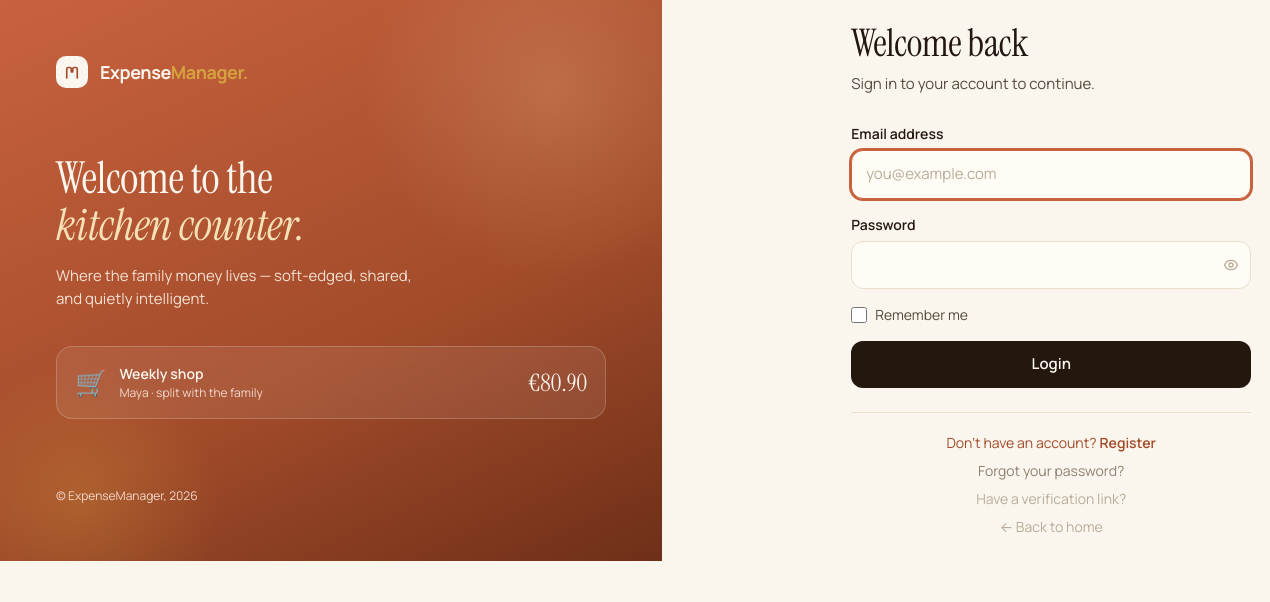
Test: Login page › shows error when email format is invalid
The image size is (1270, 602).
In the field labelled "Email address": (1051, 175) top-left (851, 150), bottom-right (1251, 199), type "notanemail"
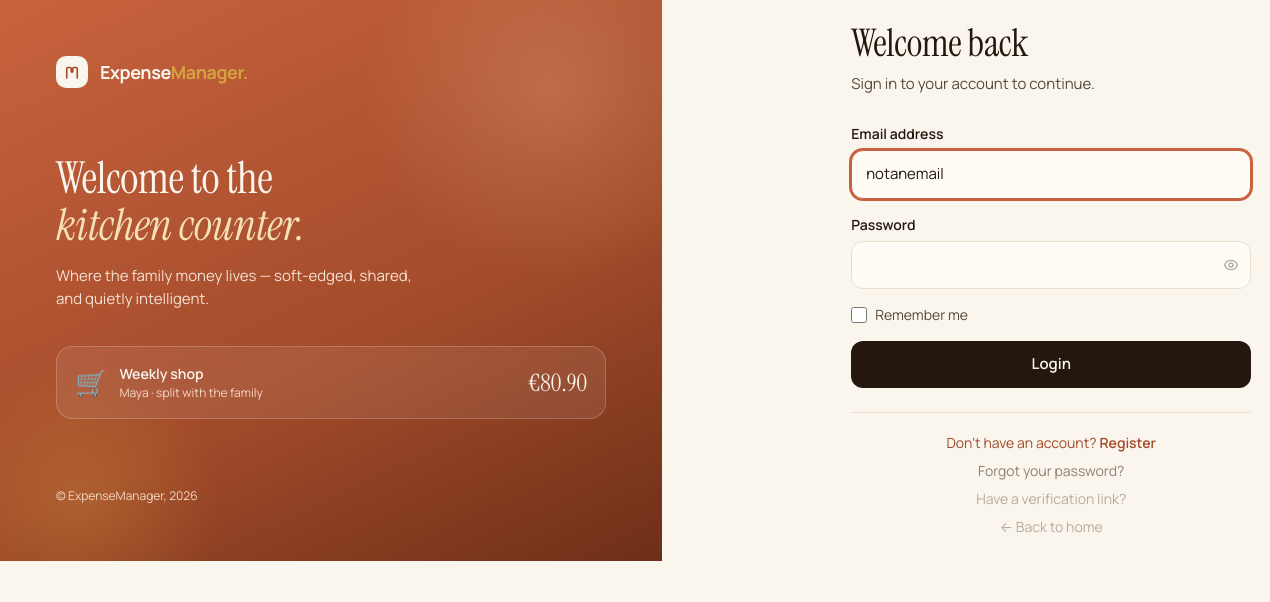
In the password field labelled "Password": (1051, 265) top-left (851, 241), bottom-right (1251, 289), type "password123"
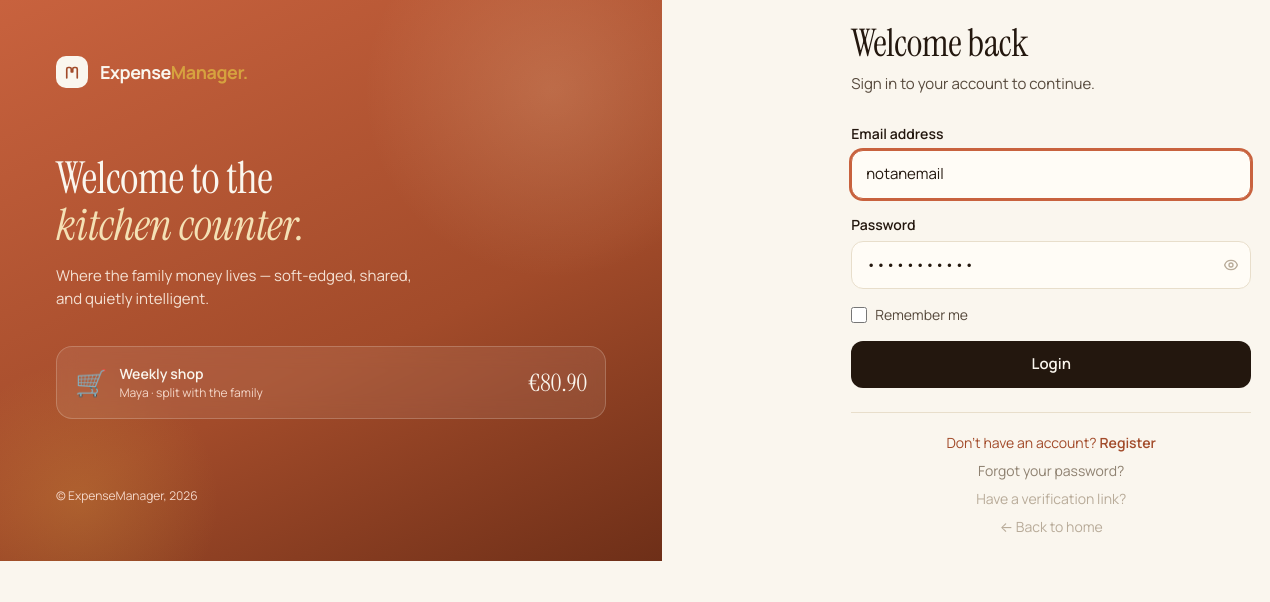
Submit the form "Email address Password Remember me Login", box top-left (851, 124), bottom-right (1251, 388)
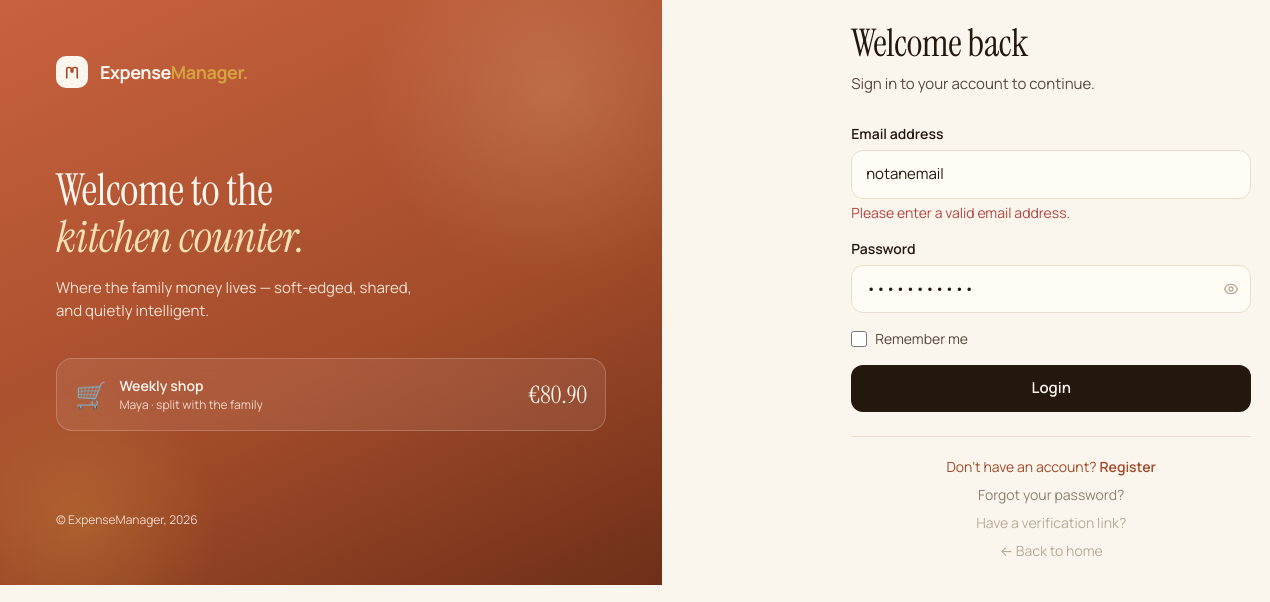
Expected: the text "Please enter a valid email address." is shown, top-left (851, 203), bottom-right (1070, 222)
